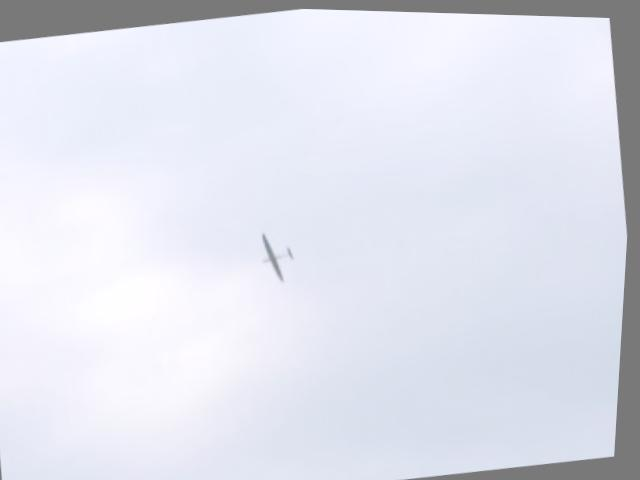uav: (253, 222, 309, 288)
